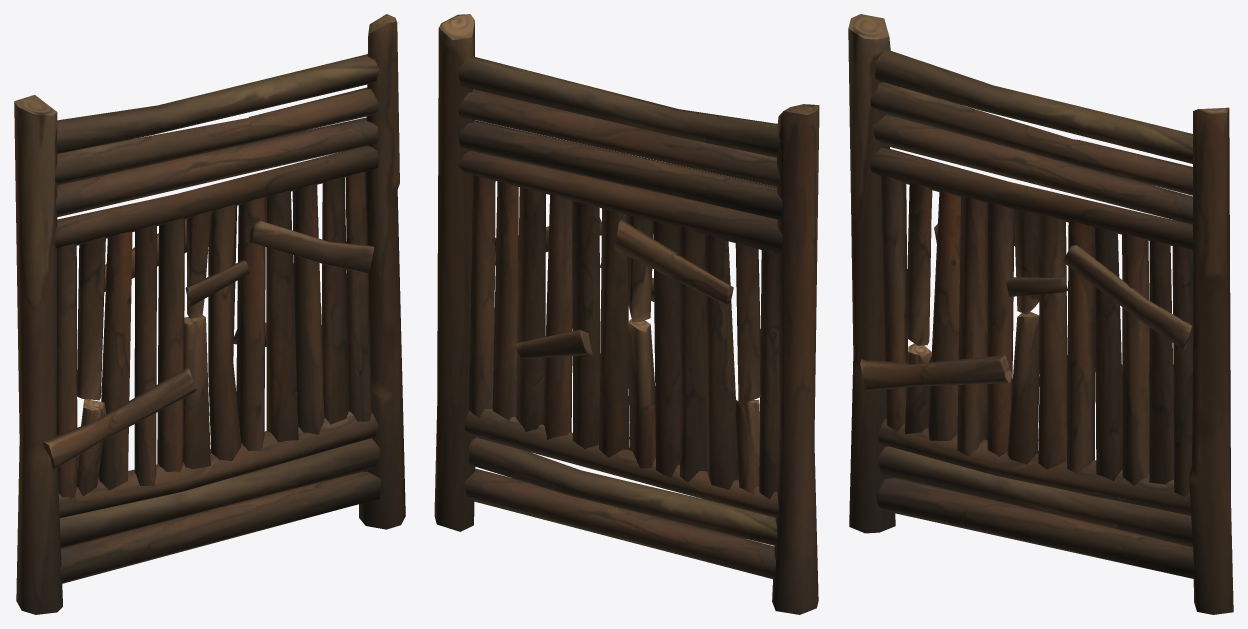
Rendered from Wall01.FBX.
3 renders of one model, left to right at view 1: azimuth 30°, elevation 25°; view 2: azimuth 150°, elevation 25°; view 3: azimuth 330°, elevation 25°, orthographic.
Visible parts, largest first — view 1: Object161; view 2: Object161; view 3: Object161.
Boxes of the visible parts, x1,y1,x2,y2 form: Object161: (14, 14, 405, 614); Object161: (434, 14, 819, 614); Object161: (848, 14, 1233, 614).
Size of the model in its own units: 2.01 by 2.51 by 0.2201.
1 material, 1 textured.
